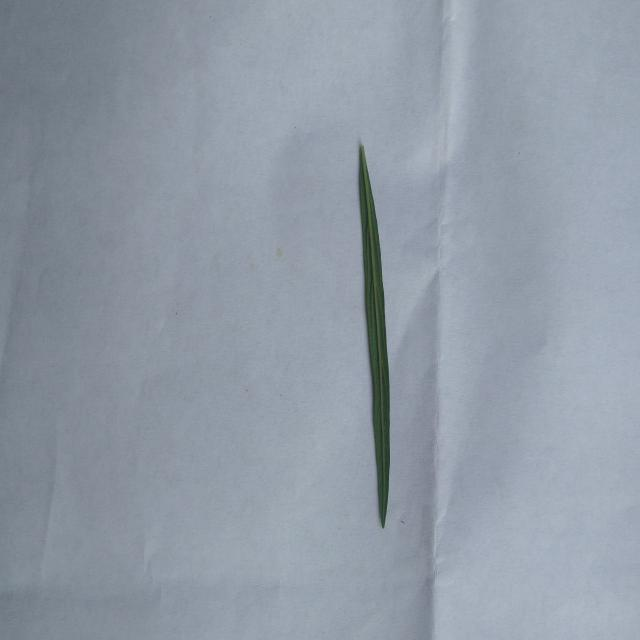thambe: (360, 144, 390, 529)
